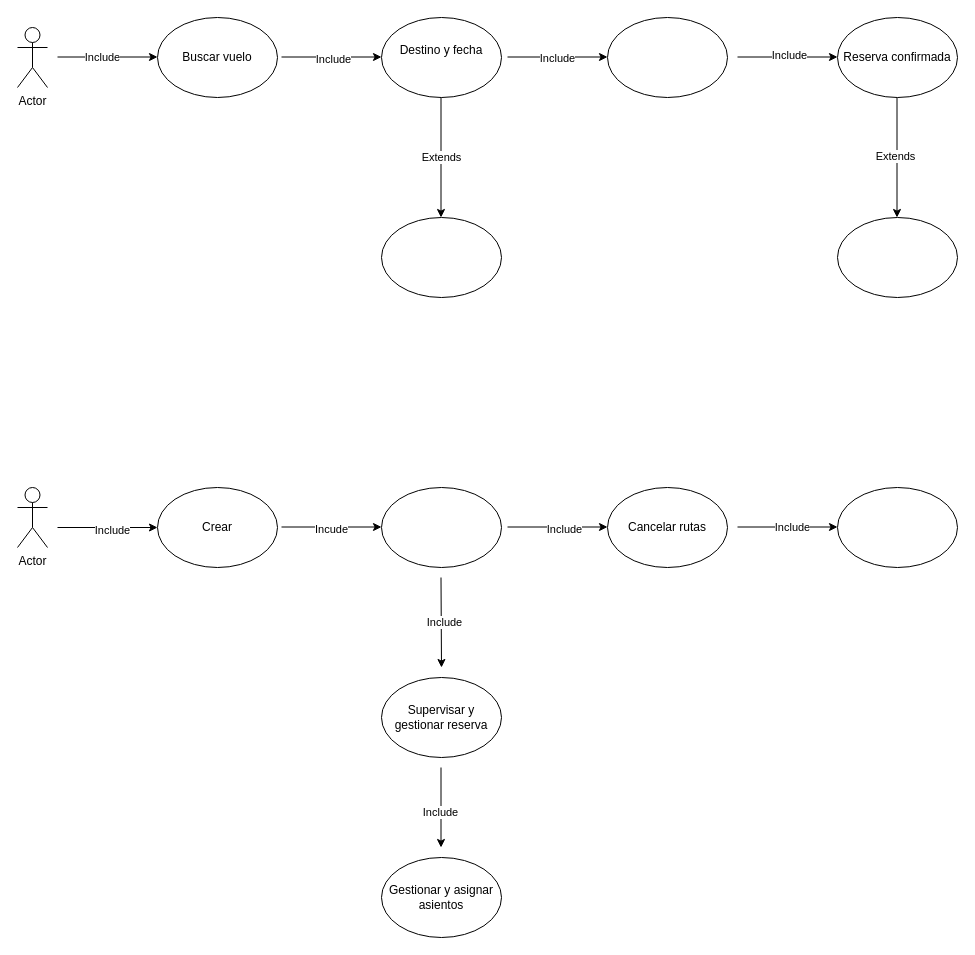
This 975x955 diagram has some shape labels left out. Each missing label, with the centre of its shape:
"Cancelar vuelo" belongs at (897,257).
"Fecha no disponible" belongs at (441,257).
"Hacer reserva" belongs at (667,57).
"Horario de vuelo" belongs at (897,527).
"Modificar" belongs at (441,527).
